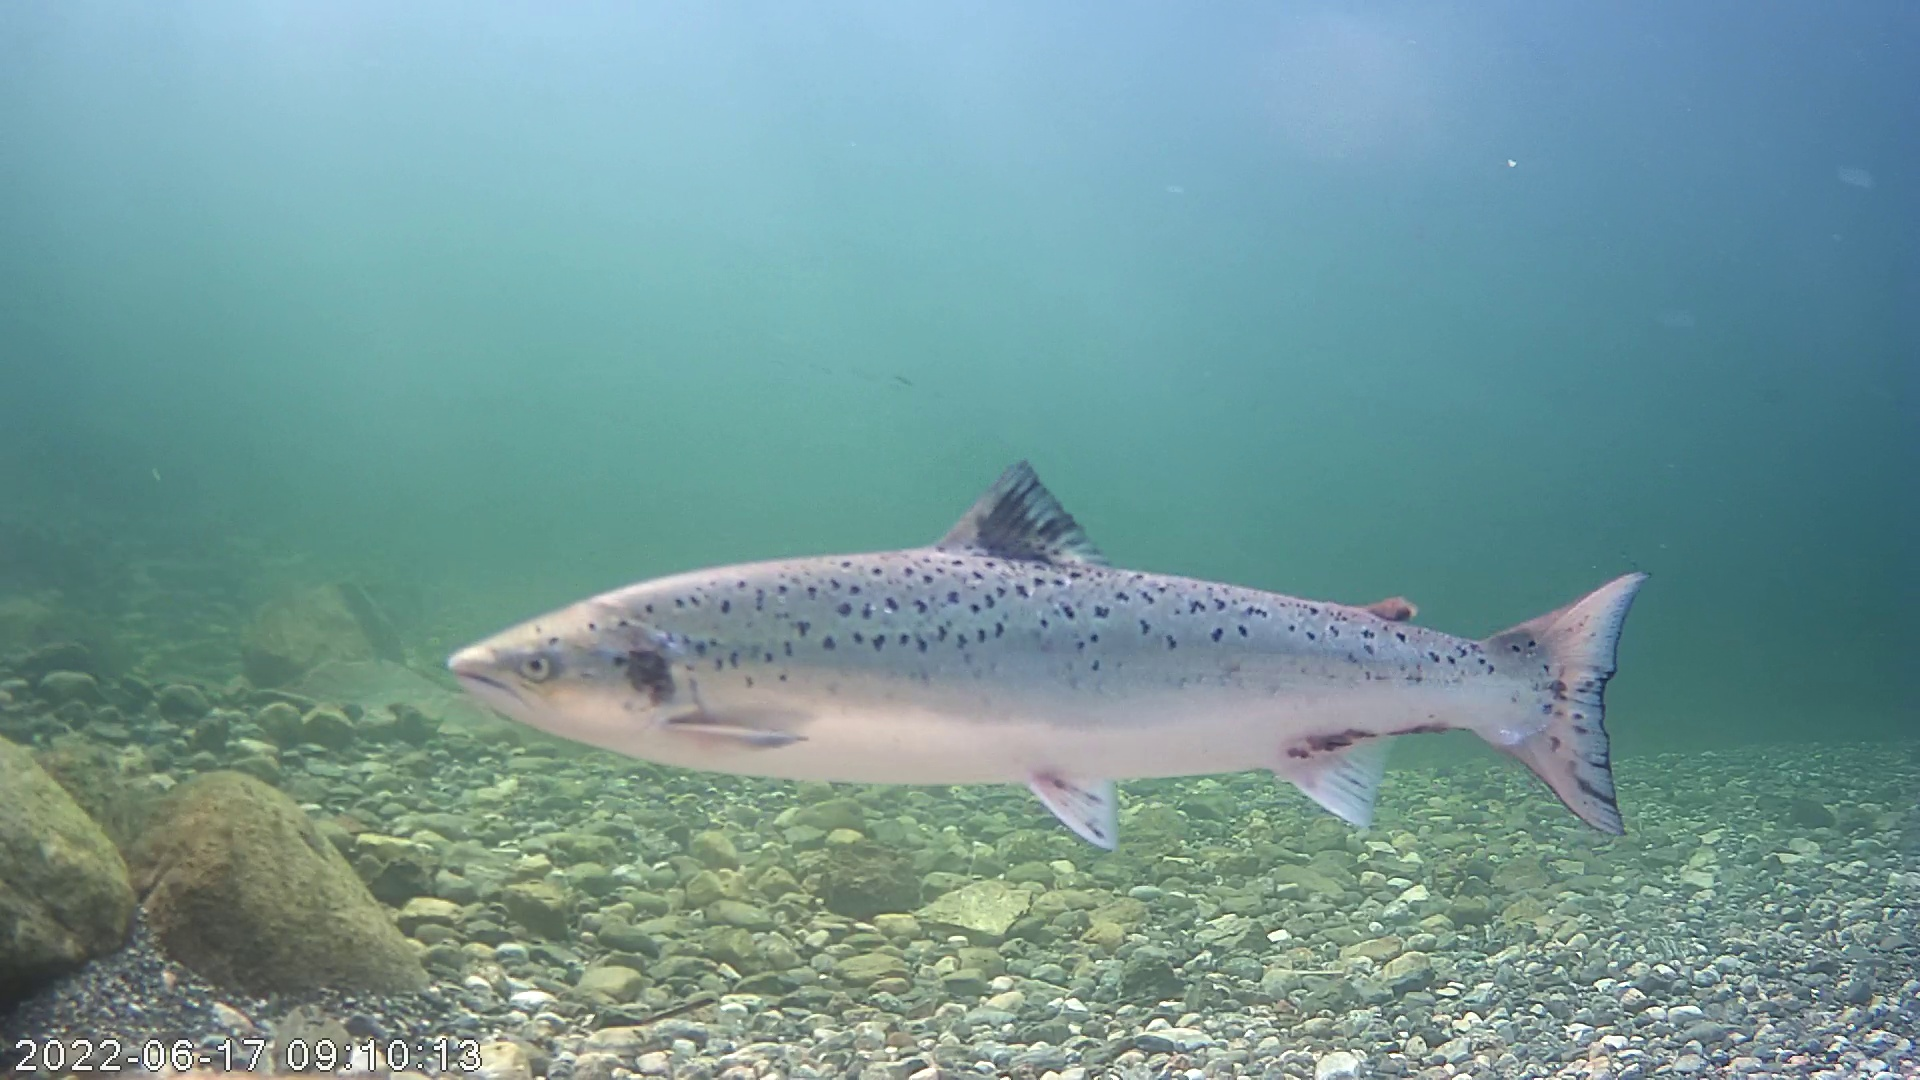salmon: (446, 455, 1656, 853)
